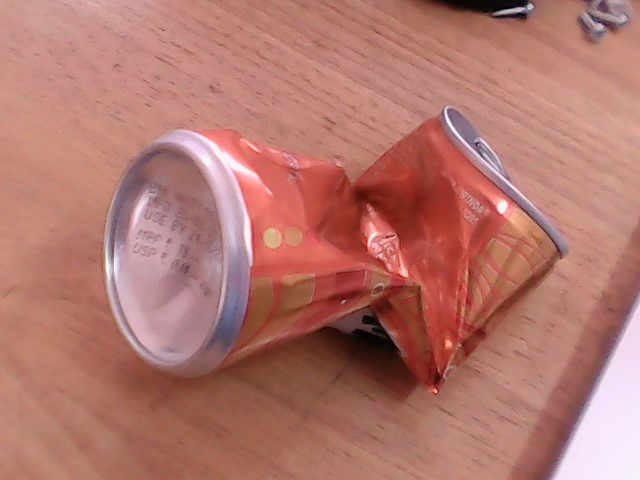Metal: (83, 123, 542, 364)
